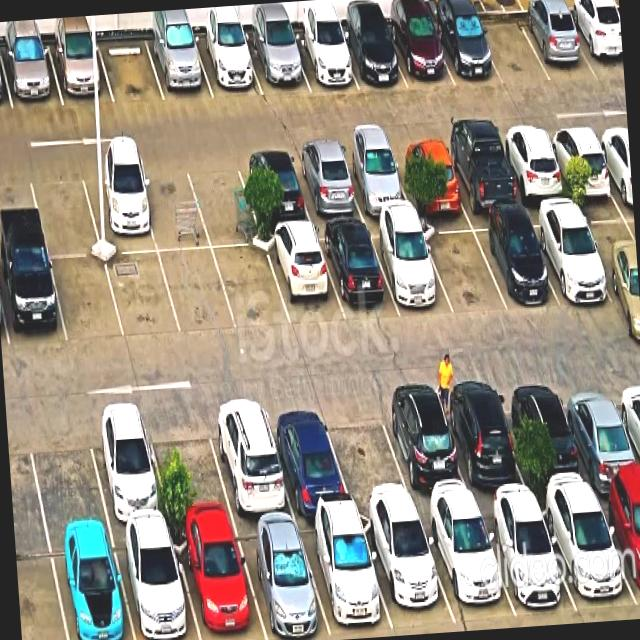car: (556, 504, 626, 624), (212, 428, 285, 536), (248, 529, 319, 640), (376, 524, 446, 636), (313, 524, 380, 640), (438, 516, 505, 632), (180, 534, 252, 640), (501, 509, 564, 628), (390, 404, 458, 512), (95, 437, 165, 541), (53, 546, 127, 640), (281, 426, 343, 536), (514, 387, 574, 495), (122, 542, 188, 640), (451, 400, 513, 502), (547, 209, 607, 313), (570, 391, 632, 491), (490, 214, 550, 313), (384, 222, 444, 320), (87, 158, 150, 249), (402, 127, 458, 225), (457, 130, 513, 228), (151, 8, 206, 106), (271, 232, 331, 321), (242, 148, 304, 234), (332, 222, 386, 320), (557, 123, 611, 219), (508, 129, 562, 224), (2, 260, 60, 345), (345, 0, 399, 91), (202, 6, 254, 97), (299, 0, 349, 93), (252, 2, 302, 94), (348, 140, 401, 225), (394, 0, 445, 88), (52, 15, 104, 101), (5, 18, 53, 108), (301, 144, 352, 225), (441, 0, 490, 84), (525, 0, 578, 71)
free: (32, 430, 104, 546), (158, 430, 224, 536), (334, 419, 404, 518), (432, 227, 497, 316), (102, 11, 158, 107), (110, 247, 170, 336), (56, 257, 118, 343), (146, 158, 202, 252), (199, 152, 255, 242), (33, 175, 93, 258), (218, 242, 276, 326), (166, 245, 222, 325), (482, 0, 536, 80)
